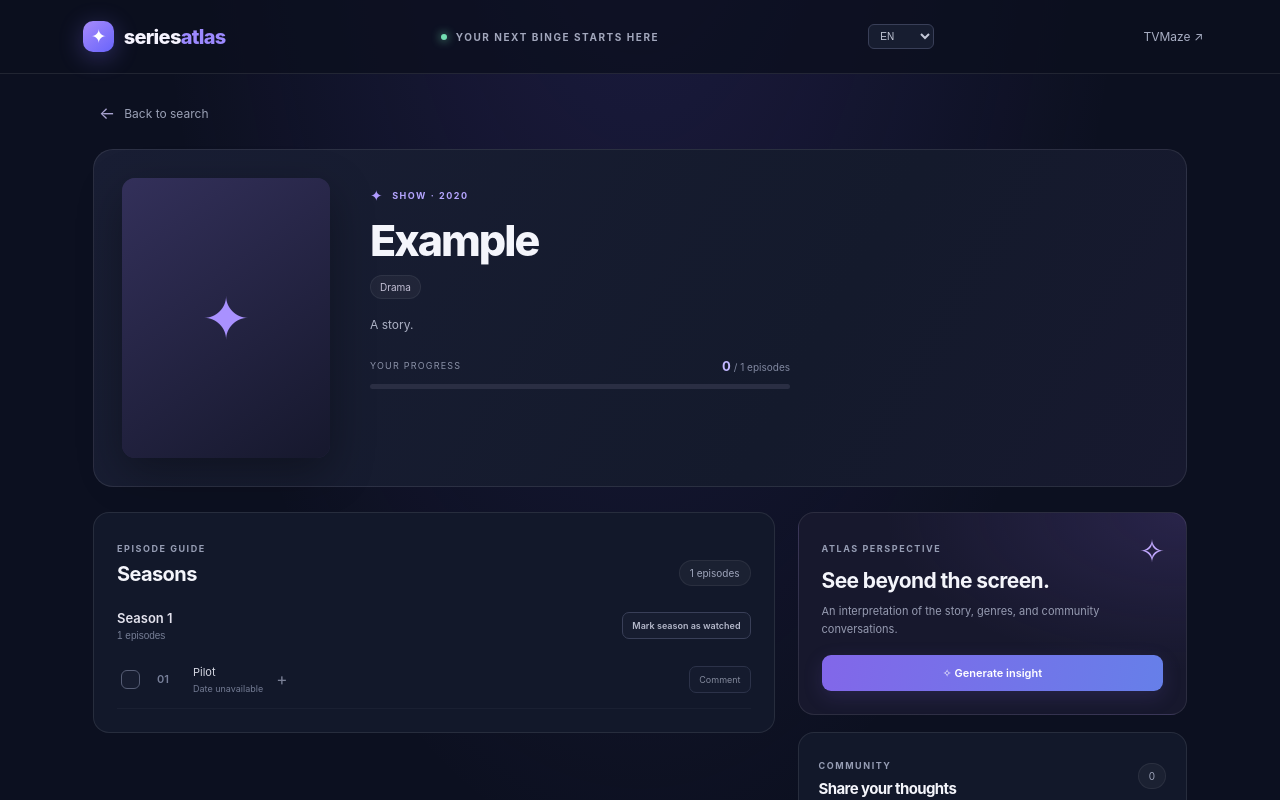
Scenario: application entrypoint › loads a direct link and persists watched state in both directions
What coordinates should you click on to do the following:
click the button named "Mark as watched"
I would click on:
 (130, 679)
Its box is [121,670,140,688].
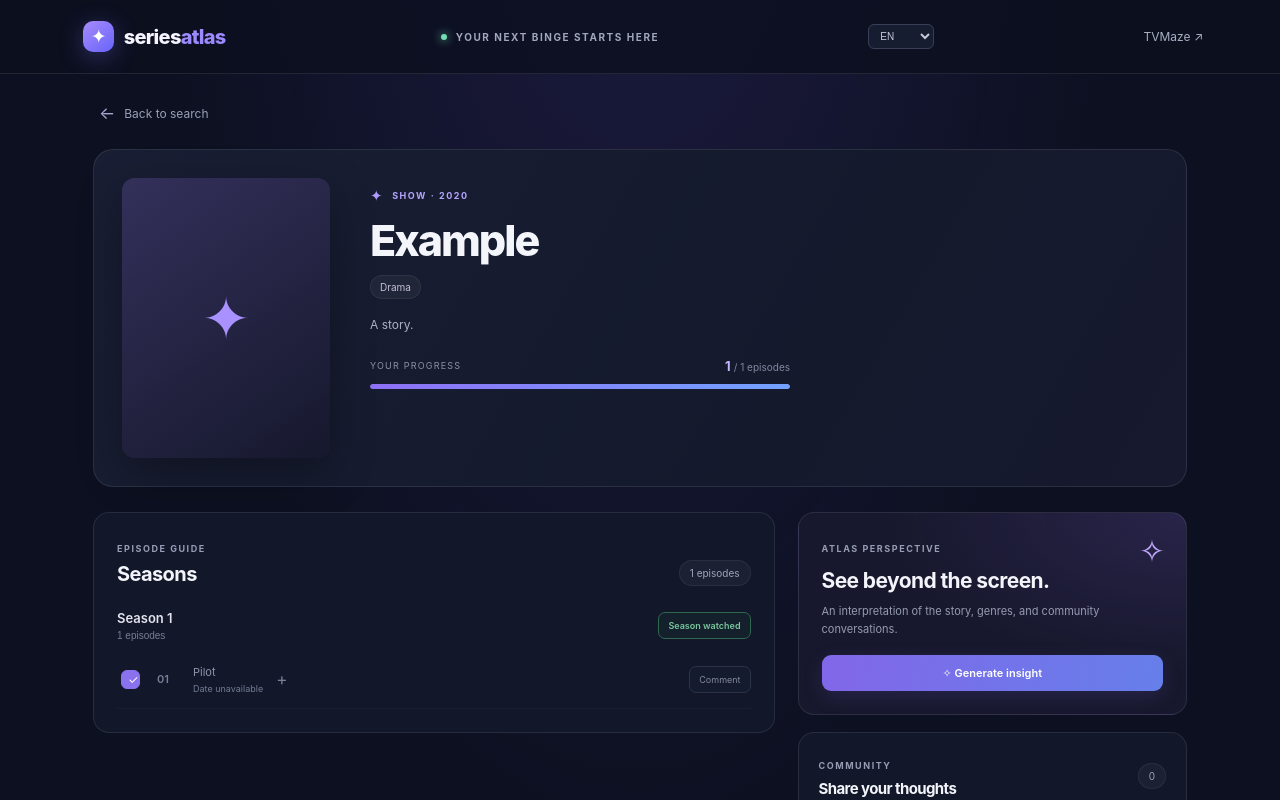
What coordinates should you click on to do the following:
click the button named "Mark as unwatched"
I would click on:
 (130, 679)
Its box is [121,670,140,688].
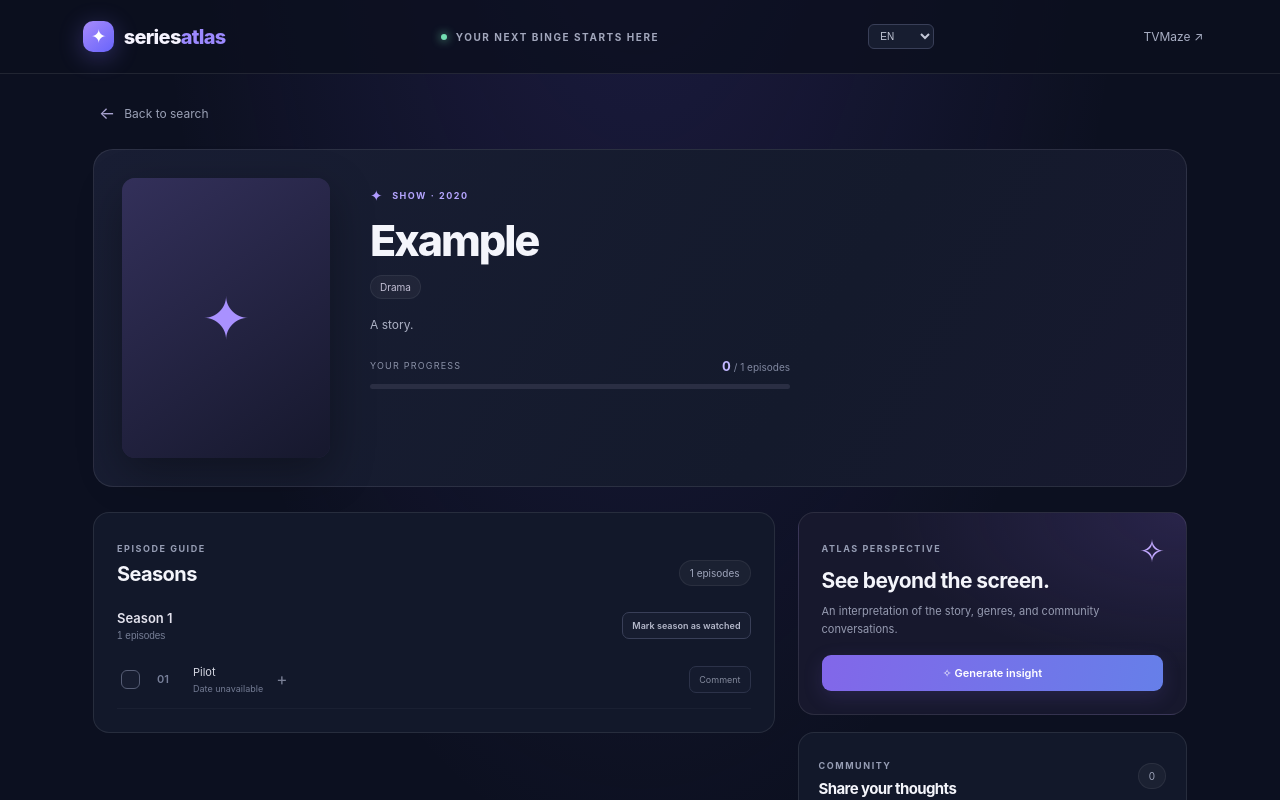
Check: the button named "Mark as watched" is shown, box [121,670,140,688]
